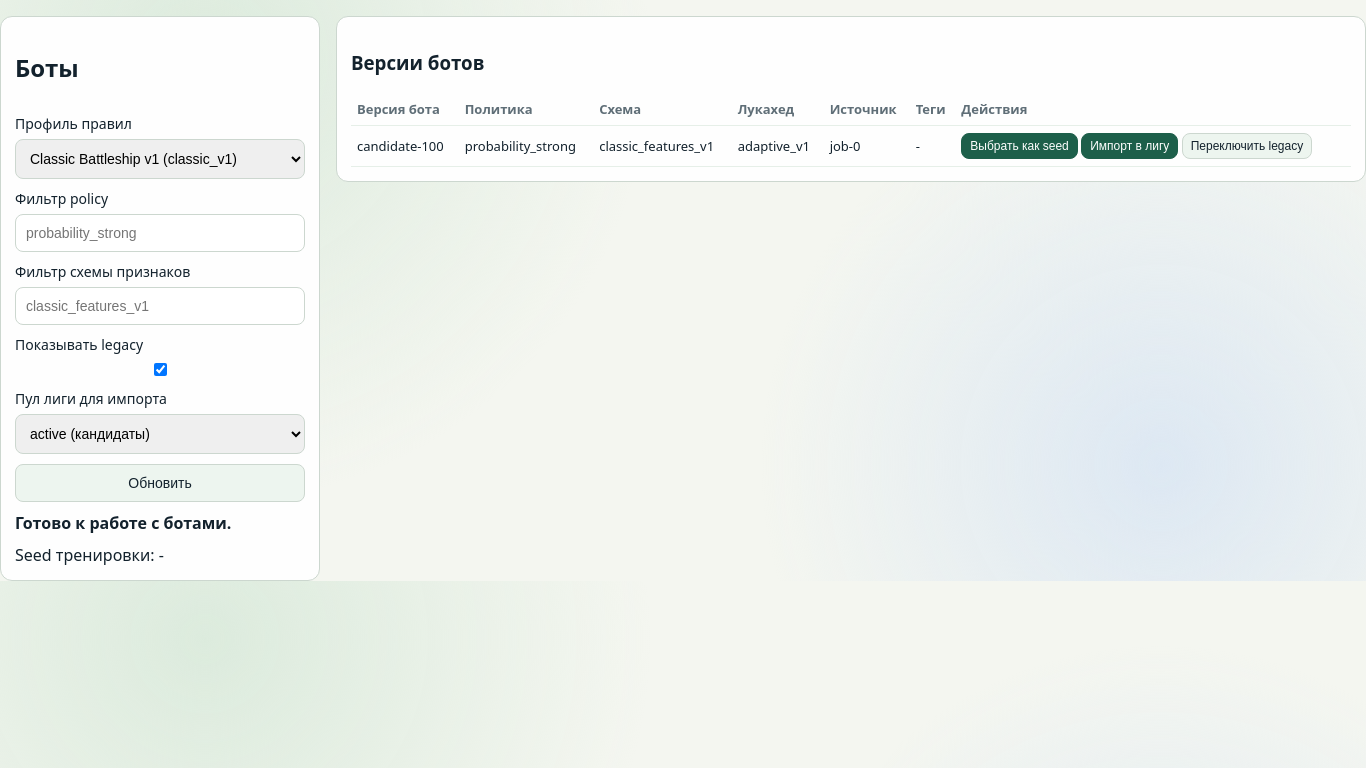
it: BotsPage › imports bot into league and selects seed
The image size is (1366, 768).
Expected: the text "Готово к работе с ботами." is shown, x1=15 y1=512 x2=231 y2=534
Click the button "Импорт в лигу". click: (1130, 146)
box: x1=1081 y1=133 x2=1178 y2=159
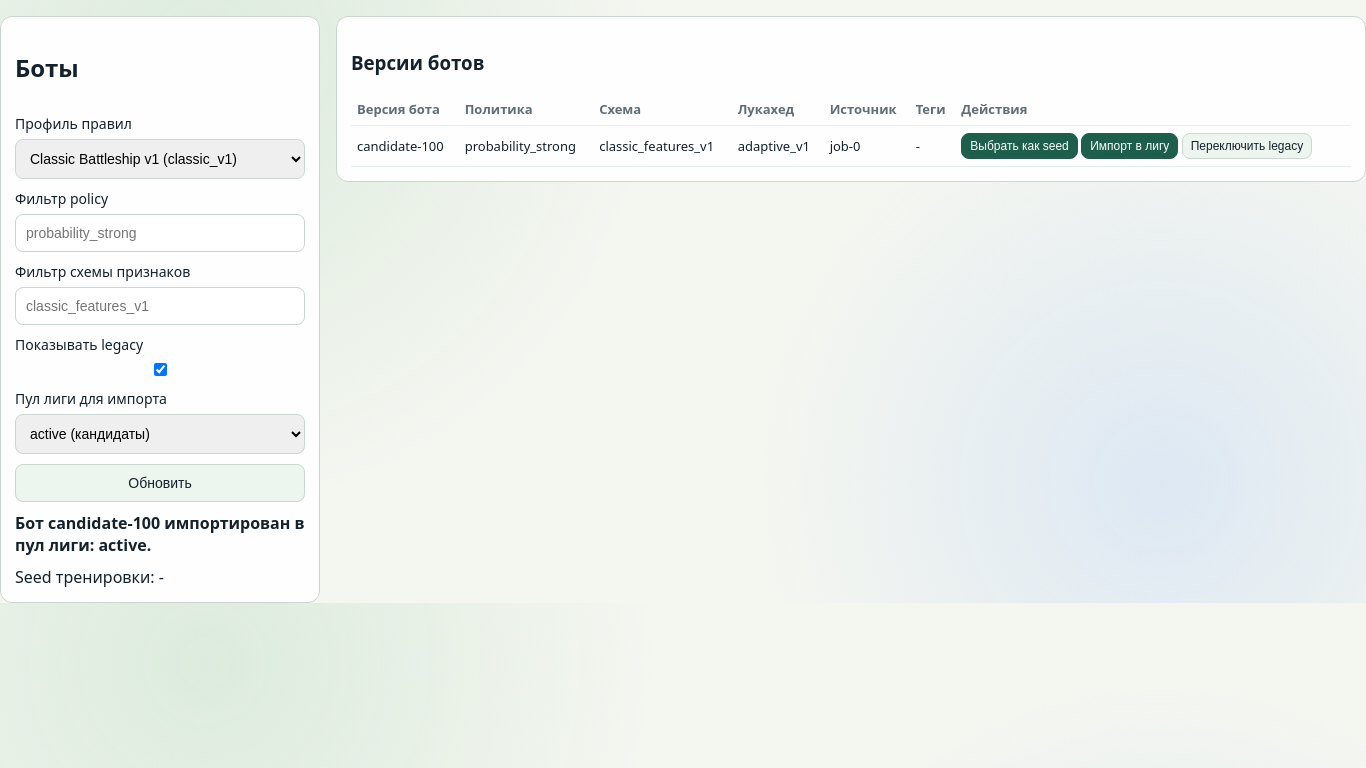
Now the text with test id "bots-status-text" shows "импортирован в пул лиги", box x1=15 y1=512 x2=305 y2=556
Click the button "Выбрать как seed". click: (1020, 146)
box: x1=961 y1=133 x2=1078 y2=159
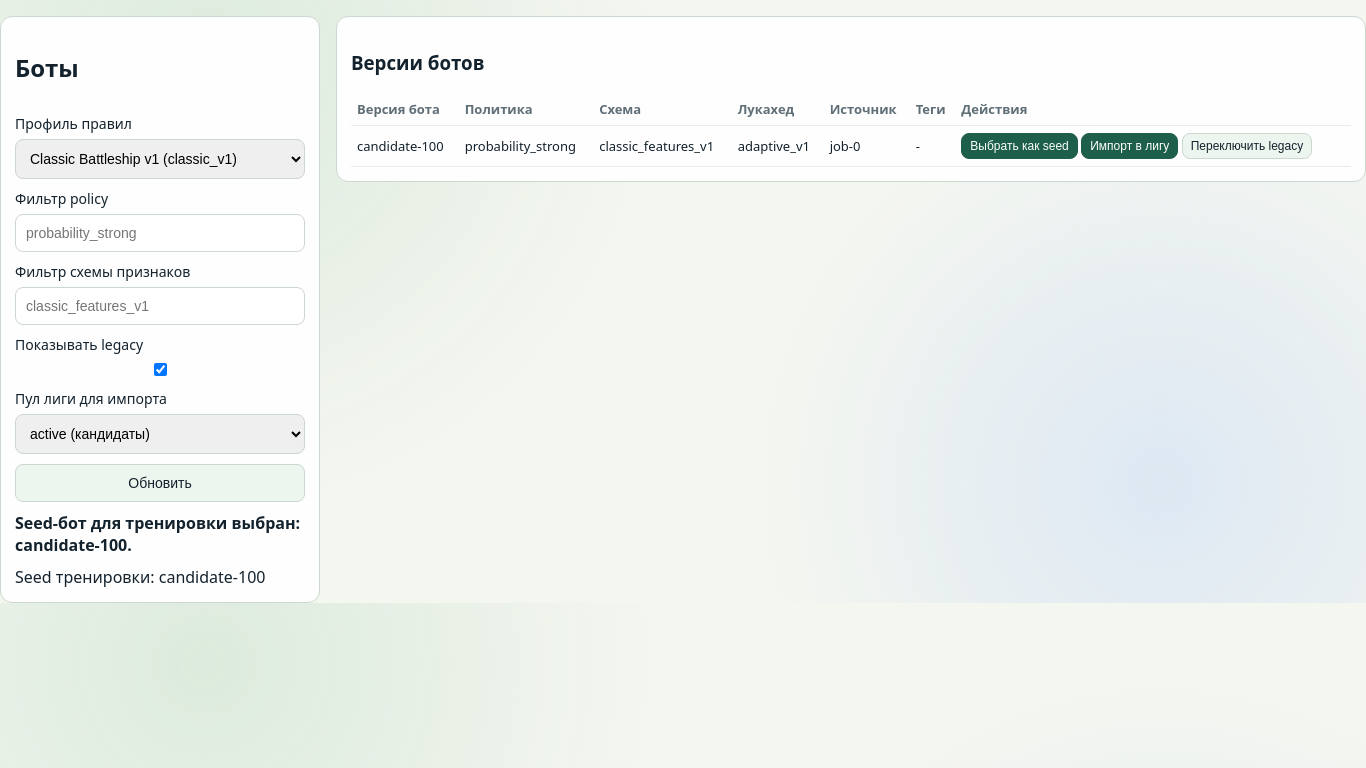
Expected: the cell "candidate-100" is shown, x1=351 y1=126 x2=459 y2=167
Now the text with test id "bots-seed-selection" shows "candidate-100", box x1=159 y1=566 x2=266 y2=588
